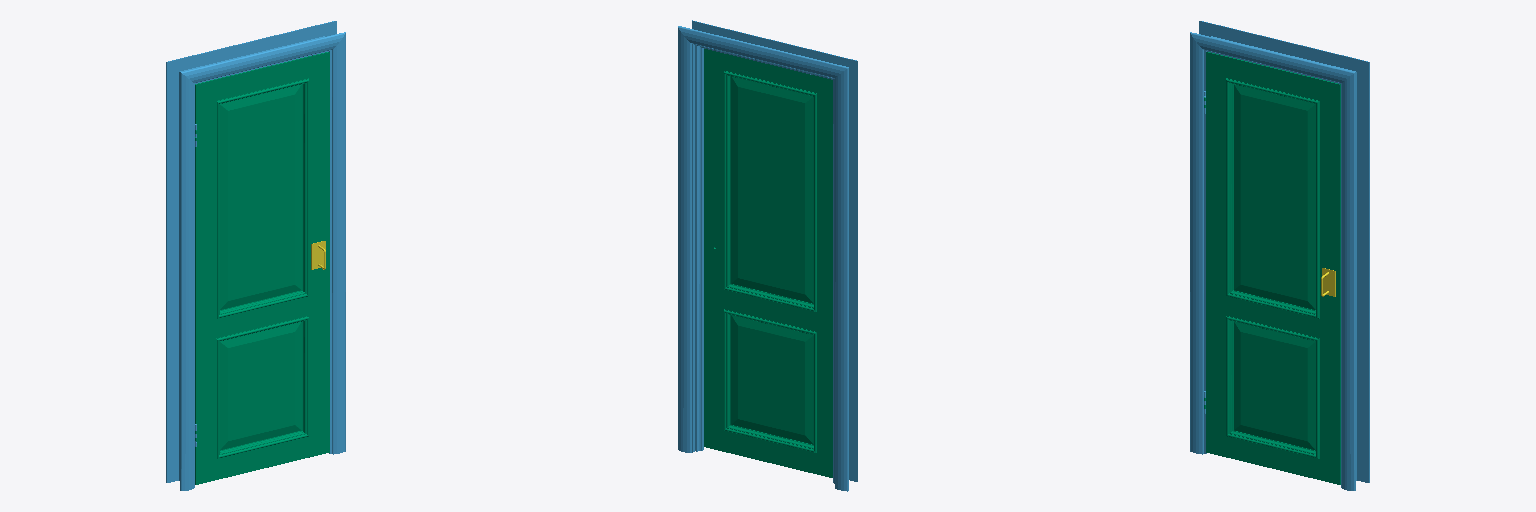
robot.urdf — pull_handle:
<?xml version="1.0" encoding="utf-8"?>
<robot name="pull_handle">
  <link name="world"/>
  
  <joint name="world_to_frame" type="fixed">
    <origin xyz="0 0 0" rpy="0 0 0"/>
    <parent link="world"/>
    <child link="frame"/>
  </joint>

  <link name="frame">
    <visual>
      <origin xyz="0 0 0" rpy="1.571 0 0"/>
      <geometry>
        <mesh filename="package://door_fixed/meshes/frame(byKevin).stl"/>
      </geometry>
    </visual>

    <collision>
      <origin xyz="0 0 0" rpy="1.571 0 0"/>
      <geometry>
        <mesh filename="package://door_fixed/meshes/frame(byKevin).stl"/>
      </geometry>
    </collision>

    <inertial>
      <origin xyz=".3 0 1" rpy="0 0 0"/>
      <mass value="1"/>
      <inertia ixx="1.0" ixy="0.0" ixz="0.0" iyy="1.0" iyz="0.0" izz="1.0"/>
    </inertial>
  </link>

  <joint name="hinge_joint" type="revolute">
    <origin xyz="0.07850 -0.00673 0.23370" rpy="0 0 0"/>
    <parent link="frame"/>
    <child link="door"/>
    <axis xyz="0 0 1"/>
    <limit velocity="10" effort="100" lower="-1.5" upper="0"/>
    <dynamics damping="0.7"/>
  </joint>

  <link name="door">
    <visual>
      <origin xyz="0 0 0" rpy="0 0 0"/>
      <geometry>
        <mesh filename="package://door_fixed/meshes/door.stl"/>
      </geometry>
    </visual>

    <collision>
      <origin xyz="0 0 0" rpy="0 0 0"/>
      <geometry>
        <mesh filename="package://door_fixed/meshes/door.stl"/>
      </geometry>
    </collision>

    <inertial>
      <origin xyz=".3 0 1" rpy="0 0 0"/>
      <mass value="10"/>
      <inertia ixx="1.0" ixy="0.0" ixz="0.0" iyy="1.0" iyz="0.0" izz="1.0"/>
    </inertial>
  </link>

  <joint name="handle_joint" type="fixed">
    <origin xyz="0.64207 0.00673 0.77630" rpy="0 0 0"/>
    <parent link="door"/>
    <child link="handle"/>
  </joint>

  <link name="handle">
    <visual>
      <origin xyz="0 0 0" rpy="1.57 0 0"/>
      <geometry>
        <mesh filename="package://door_fixed/meshes/pull_handle1.stl"  scale="0.00005 0.00005 0.00005"/>
      </geometry>
    </visual>

    <collision>
      <origin xyz="0 0 0" rpy="1.57 0 0"/>
      <geometry>
        <mesh filename="package://door_fixed/meshes/pull_handle1.stl"  scale="0.00005 0.00005 0.00005"/>
      </geometry>
    </collision>

    <inertial>
      <origin xyz="0 0 0" rpy="1.57 0 0"/>
      <mass value=".5"/>
      <inertia ixx="1.0" ixy="0.0" ixz="0.0" iyy="1.0" iyz="0.0" izz="1.0"/>
    </inertial>
  </link>

  <gazebo reference="door">
    <mu1>0.2</mu1>
    <mu2>0.2</mu2>
    <material>Gazebo/Green</material>
    <selfCollide>True</selfCollide>
  </gazebo>

  <gazebo reference="frame">
    <mu1>0.2</mu1>
    <mu2>0.2</mu2>
    <material>Gazebo/Blue</material>
    <selfCollide>True</selfCollide>
  </gazebo>
    
  <gazebo reference="hinge_joint">
      <implicitSpringDamper>True</implicitSpringDamper>
      <springStiffness>1</springStiffness>
      <springReference>0</springReference>
      <cfmDamping>1</cfmDamping>
  </gazebo>  

  <gazebo>
    <plugin name="gazebo_ros_control" filename="libgazebo_ros_control.so">
      <robotNamespace>/door_fixed</robotNamespace>
      <robotSimType>gazebo_ros_control/DefaultRobotHWSim</robotSimType>
    </plugin>
  </gazebo>

  <transmission name="tran1">
    <type>transmission_interface/SimpleTransmission</type>
    <joint name="hinge_joint">
      <hardwareInterface>hardware_interface/PositionJointInterface</hardwareInterface>
    </joint>
    <actuator name="motor1">
      <hardwareInterface>hardware_interface/PositionJointInterface</hardwareInterface>
      <mechanicalReduction>1</mechanicalReduction>
    </actuator>
  </transmission>

</robot>

--- Facts derived from the render (not from the file) ---
The picture shows the robot from 3 angles, left to right: view 1: azimuth 30°, elevation 25°; view 2: azimuth 150°, elevation 25°; view 3: azimuth 330°, elevation 25°; orthographic projection.
Model pull_handle with 4 links and 3 joints (1 revolute, 2 fixed), rooted at world, posed all joints at 0.
Visible links, largest first — view 1: door, frame; view 2: door, frame; view 3: door, frame.
Link boxes in pixels (x1=…): door: x1=195, y1=52, x2=329, y2=484; frame: x1=166, y1=21, x2=345, y2=490; door: x1=704, y1=49, x2=832, y2=477; frame: x1=678, y1=20, x2=857, y2=491; door: x1=1204, y1=52, x2=1340, y2=484; frame: x1=1190, y1=21, x2=1369, y2=490.
Bounding box of the posed robot: 0.887 × 0.1778 × 2.1 m (x, y, z).
3 mesh visuals loaded from 3 distinct referenced files (3 binary STL).
